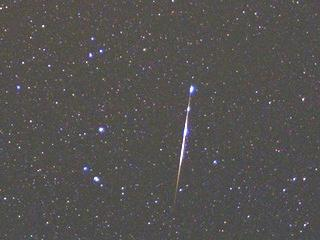meteorite: (169, 85, 197, 196)
